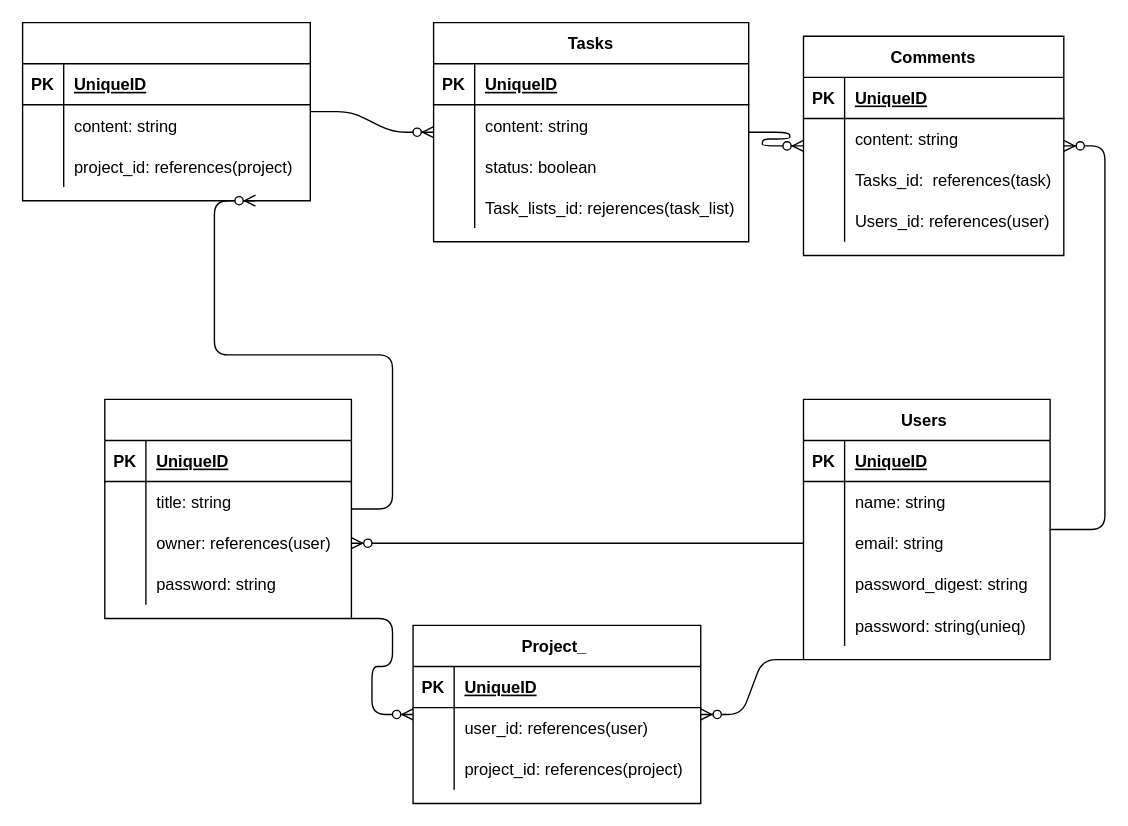
The diagram is 1128 pixels wide and 826 high, and some of its shapes have lost their labels. Here are the shapes that lost their labels. From the top down, the box of each, then its label:
(21, 21, 310, 201): Task_Lists
(103, 398, 351, 619): Projects
